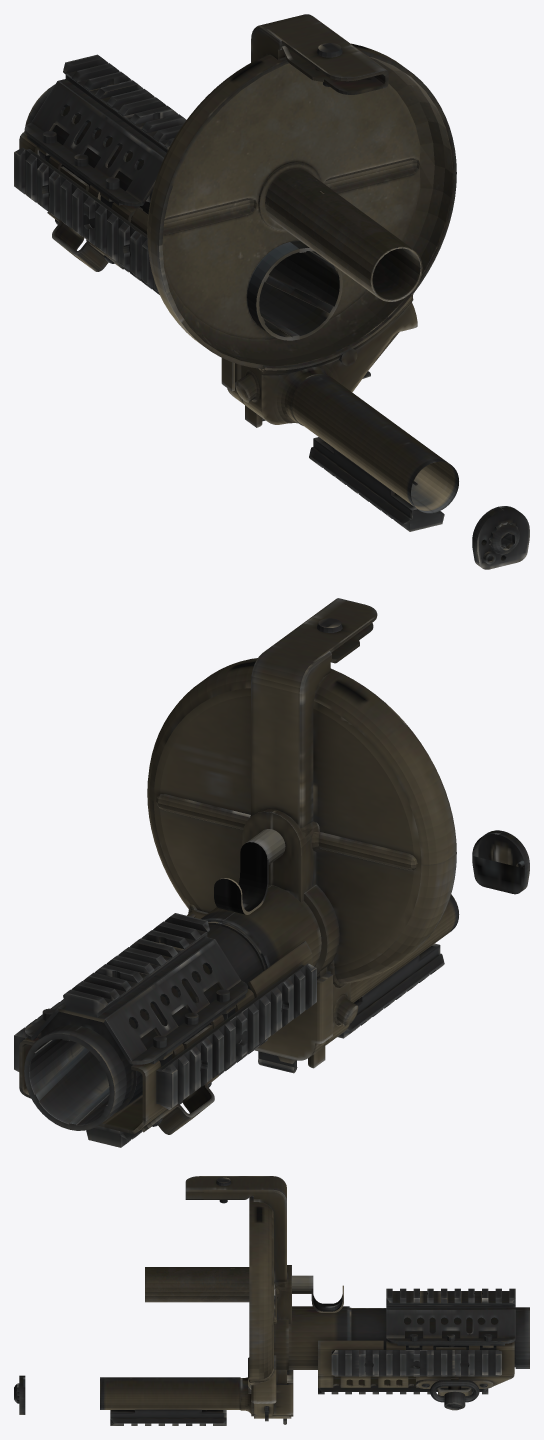
3 views of the same model, one above another, from view 1: azimuth 30°, elevation 25°; view 2: azimuth 150°, elevation 25°; view 3: azimuth 270°, elevation 25° (orthographic). The views are drawn at different scales.
Parts seen in each view (by area): view 1: TW_6275303a9f372d6ea97f9ec7_PZ_Import; view 2: TW_6275303a9f372d6ea97f9ec7_PZ_Import; view 3: TW_6275303a9f372d6ea97f9ec7_PZ_Import.
Part boxes in pixels (x1,y1,x2,y2): TW_6275303a9f372d6ea97f9ec7_PZ_Import: (14, 14, 529, 569); TW_6275303a9f372d6ea97f9ec7_PZ_Import: (14, 598, 529, 1147); TW_6275303a9f372d6ea97f9ec7_PZ_Import: (14, 1176, 529, 1425).
Bounding box in the file's own units: 0.085 × 0.2168 × 0.1117.
1 material, 1 textured.
